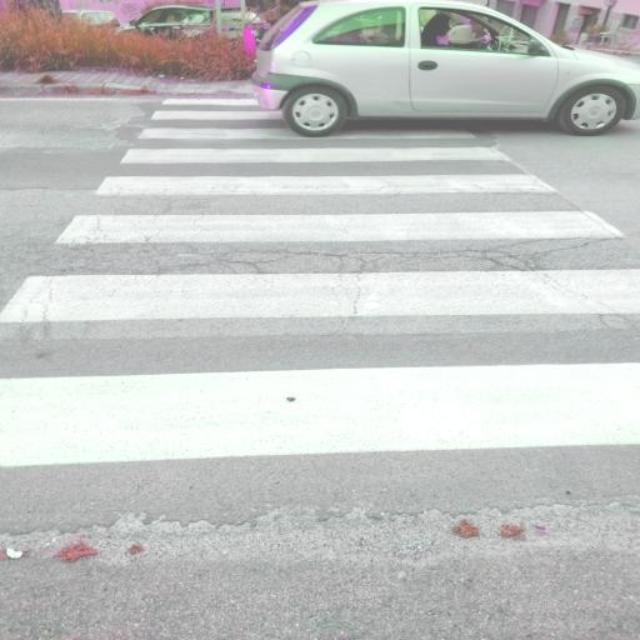sidewalk: (0, 85, 640, 548)
